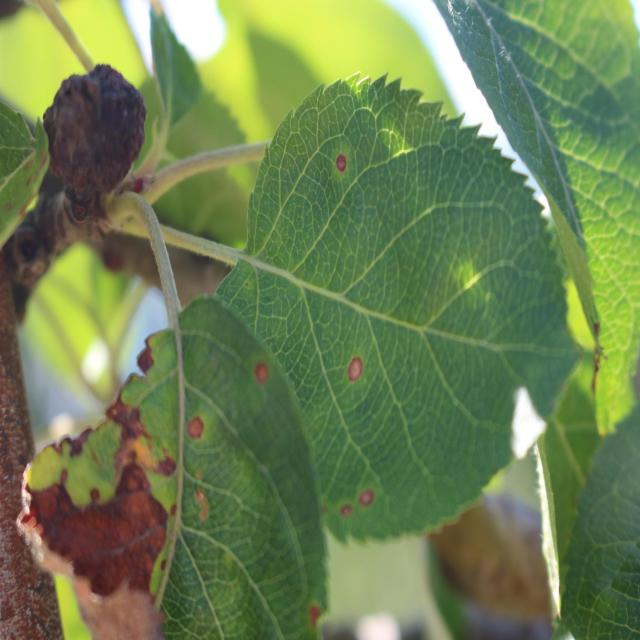Rust: (192, 462, 215, 526), (342, 348, 372, 387), (326, 144, 356, 180), (355, 477, 379, 516), (250, 354, 273, 388), (186, 411, 209, 444), (336, 502, 358, 530)
